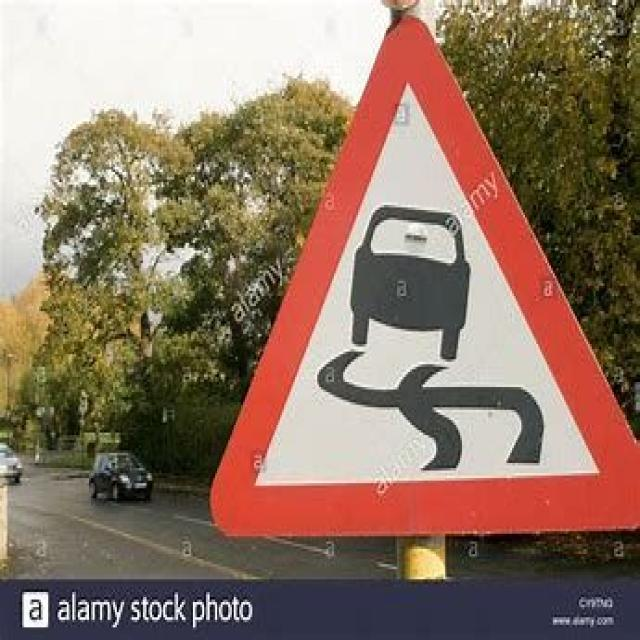SLIPPERY_ROAD: (211, 9, 640, 536)
